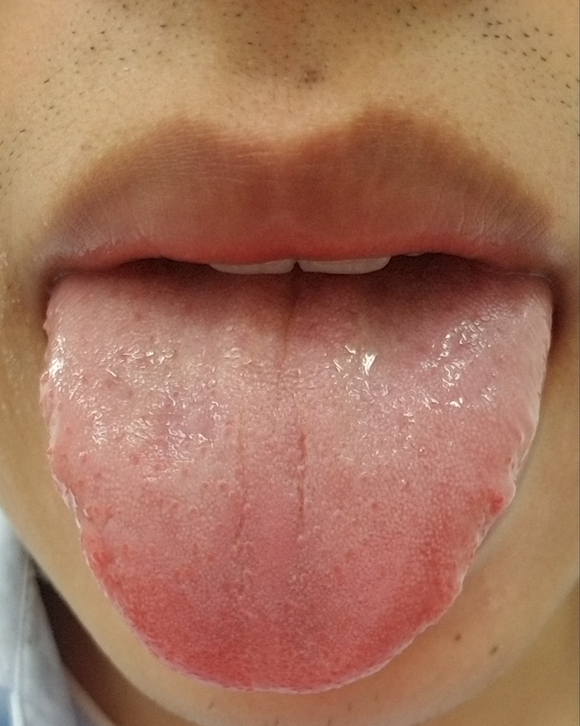baitaishe: (40, 249, 549, 693)
hongshe: (40, 249, 549, 693)
